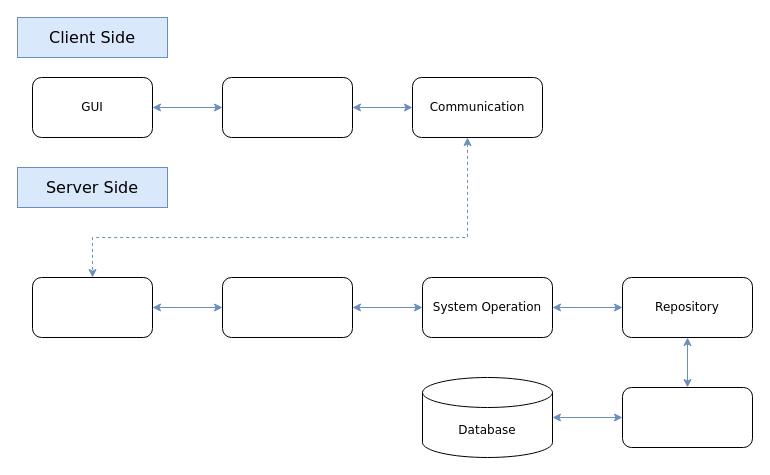
Some shapes in this 770 by 475 pixel diagram are drawn without their labels. Here are the shapes that lost their labels. From the top down, the centre of each, then its label:
At (x=287, y=107): "GUI Controller".
At (x=92, y=307): "Client Handler".
At (x=287, y=307): "Controller".
At (x=687, y=417): "Database Broker".
